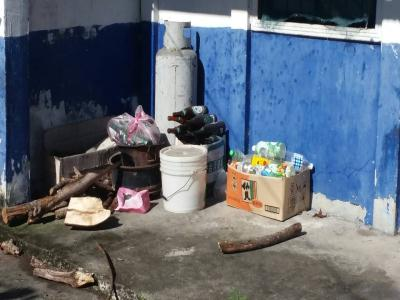bottle: (248, 138, 288, 162), (177, 112, 218, 135), (189, 120, 228, 143), (171, 102, 210, 120)
box: (225, 158, 315, 222)
bucket: (157, 142, 211, 215)
plastic_bag: (108, 109, 162, 149)
